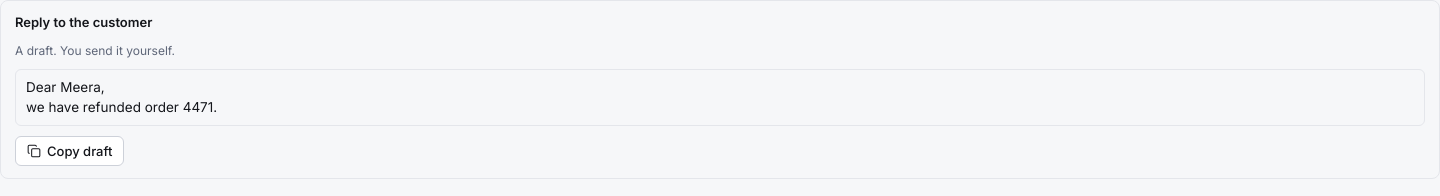
Test: ReplyDraft › copies the whole draft and says so, to the eye and to a screen reader
Click the button "Copy draft". click: (70, 151)
box: [15,136,124,166]
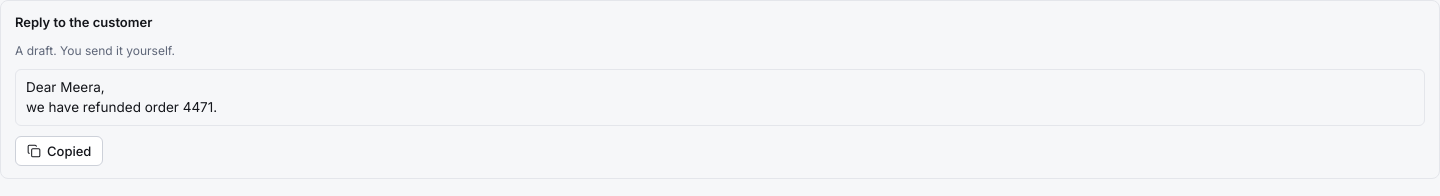
Result: the button "Copied" is shown at [15,136,103,166]
